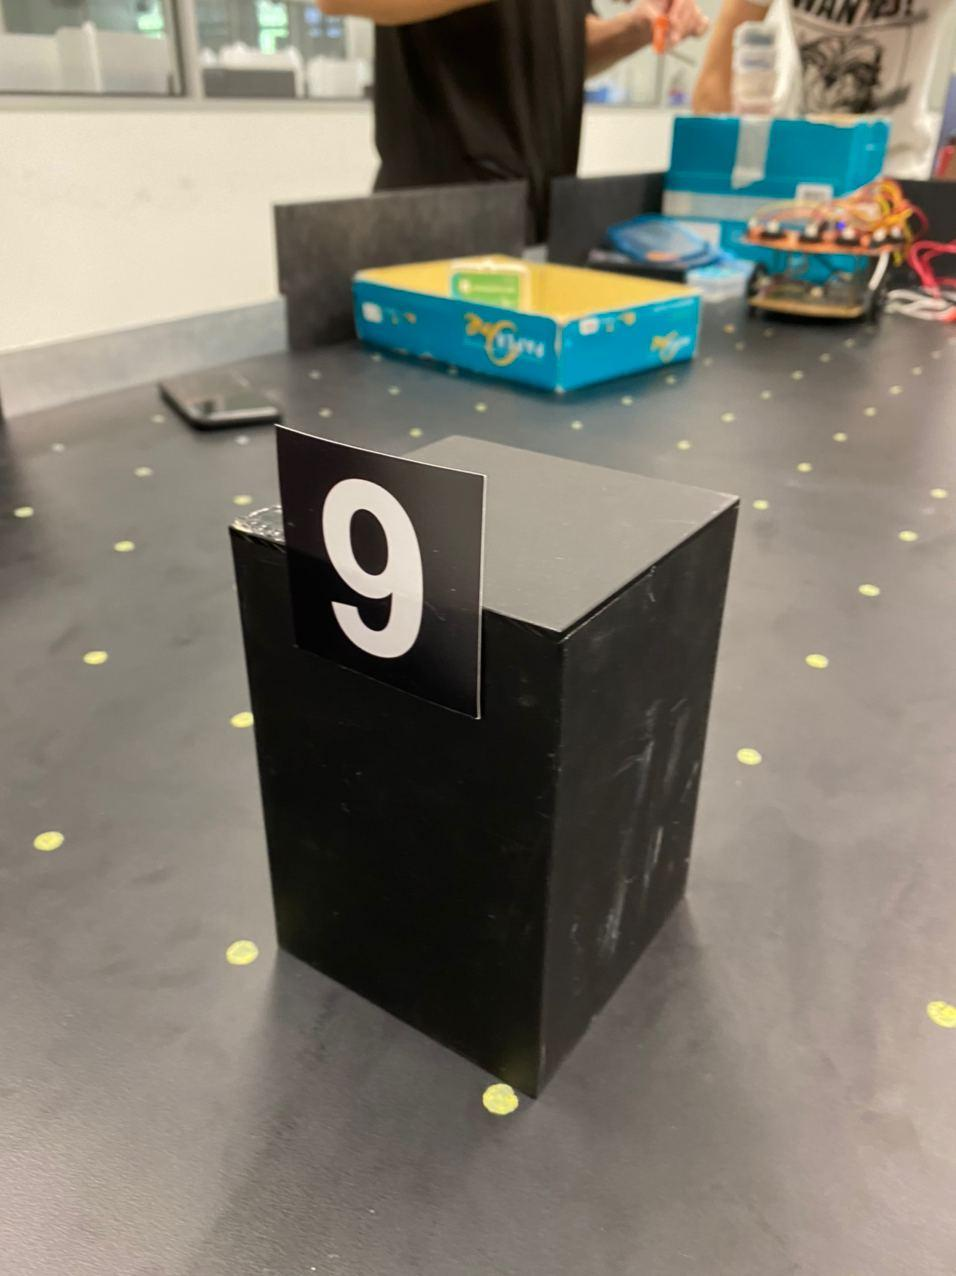9dd: (299, 459, 446, 674)
